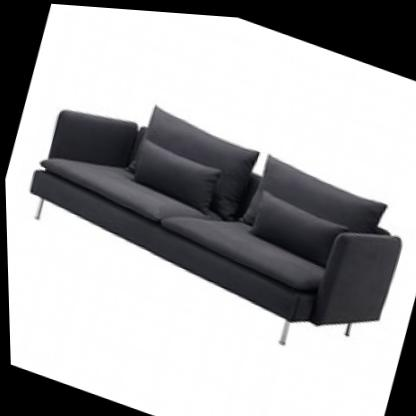Sofa: (2, 48, 416, 384)
